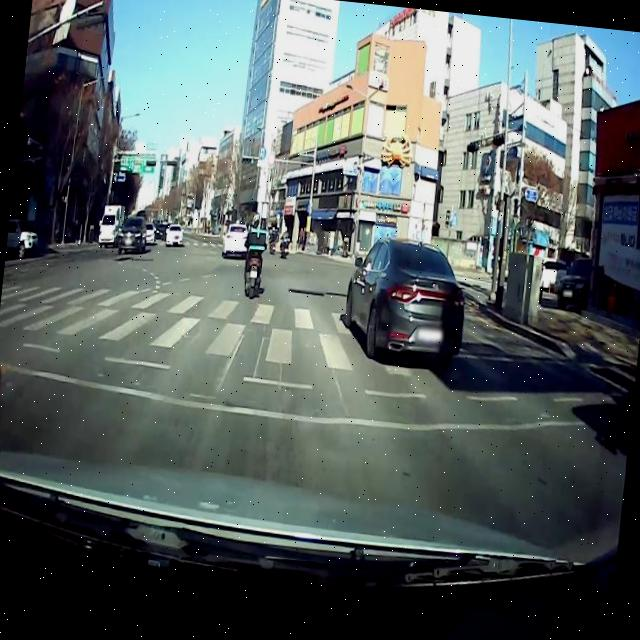crosswalk: (0, 280, 577, 388), (451, 276, 554, 303), (106, 235, 271, 251)
